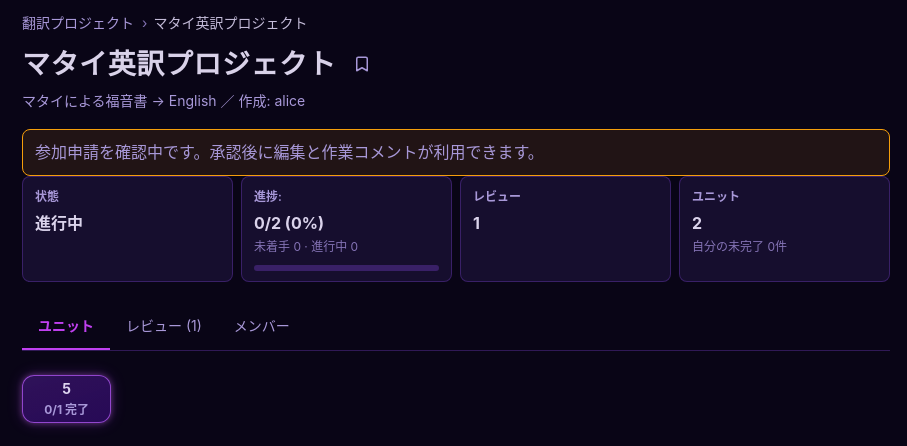
TranslationDetailPage › pending申請者を承認済みメンバーとして扱わない
Expected: the text "参加申請を確認中です。承認後に編集と作業コメントが利用できます。" is shown, left=22, top=129, right=890, bottom=176
Click the tab "メンバー": (262,328) left=218, top=306, right=306, bottom=350
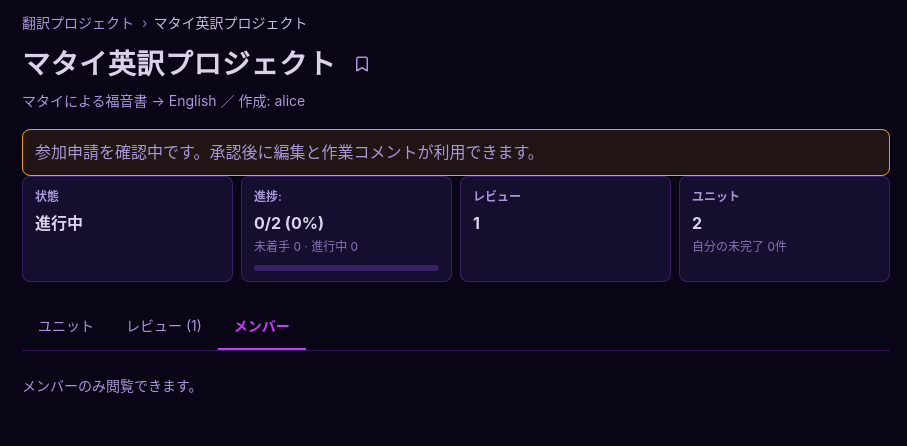
Expected: the text "メンバーのみ閲覧できます。" is shown, left=22, top=376, right=203, bottom=394
